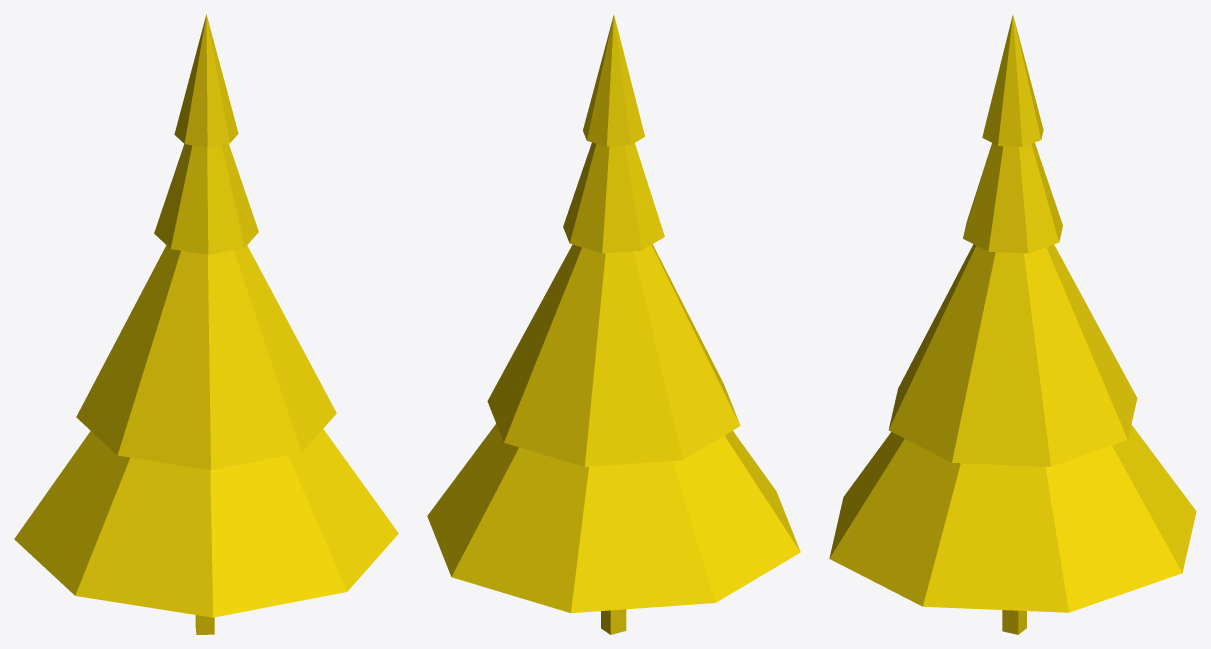
File: tree_orange.gltf
3 renders of one model, left to right at view 1: azimuth 30°, elevation 25°; view 2: azimuth 150°, elevation 25°; view 3: azimuth 270°, elevation 25°, orthographic.
Parts seen in each view (by area): view 1: element; view 2: element; view 3: element.
Boxes of the visible parts, box(x1,y1,x2,y2) form: element: box(14, 14, 398, 634); element: box(427, 15, 800, 634); element: box(829, 15, 1196, 634).
Bounding box in the file's own units: 6.04 × 11.18 × 6.04.
